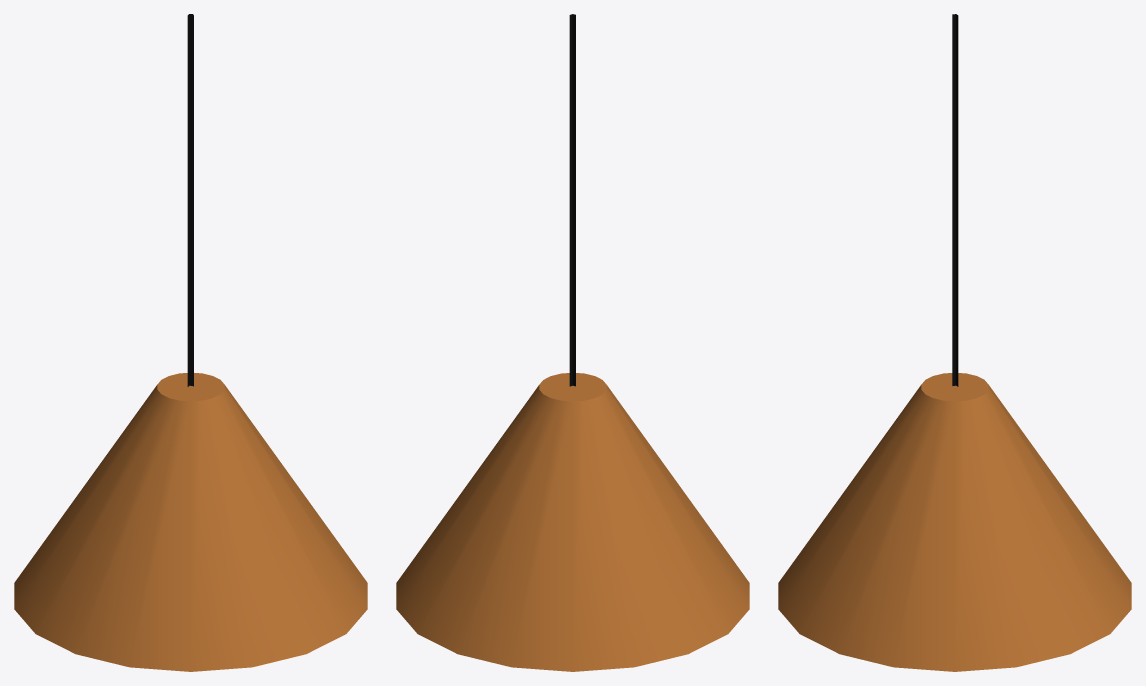
File: home.light.pendant_copper.glb
3 views of the same model, side by side, from view 1: azimuth 30°, elevation 25°; view 2: azimuth 150°, elevation 25°; view 3: azimuth 270°, elevation 25° (orthographic).
Parts seen in each view (by area): view 1: main__copper, main__plastic_black; view 2: main__copper, main__plastic_black; view 3: main__copper, main__plastic_black.
Boxes of the visible parts, x1,y1,x2,y2 form: main__copper: [14, 373, 367, 671]; main__plastic_black: [187, 14, 193, 386]; main__copper: [396, 373, 749, 671]; main__plastic_black: [569, 14, 575, 386]; main__copper: [778, 373, 1131, 671]; main__plastic_black: [952, 14, 958, 386].
Size of the model in its own units: 0.42 by 0.75 by 0.4136.
